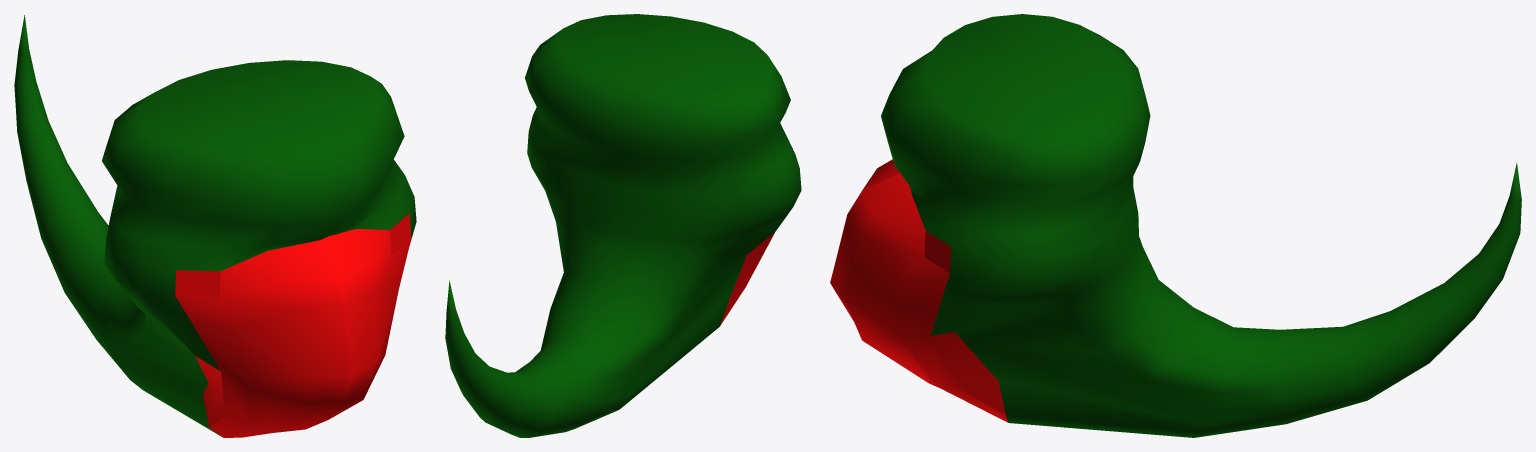
The model's file is body.obj.
3 views of the same model, side by side, from view 1: azimuth 30°, elevation 25°; view 2: azimuth 150°, elevation 25°; view 3: azimuth 270°, elevation 25° (orthographic). The views are drawn at different scales.
Parts seen in each view (by area): view 1: polySurface48; view 2: polySurface48; view 3: polySurface48.
Boxes of the visible parts, left/top/right/bottom form: polySurface48: left=14, top=15, right=416, bottom=437; polySurface48: left=445, top=14, right=801, bottom=437; polySurface48: left=830, top=14, right=1521, bottom=437.
Bounding box in the file's own units: 5.92 × 6.78 × 11.71.
1 material, 1 textured.
